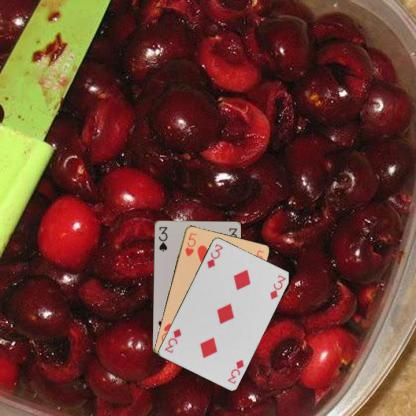3d: (225, 356, 245, 385), (204, 241, 224, 269)
3s: (156, 223, 169, 252)
5h: (182, 230, 198, 258)
